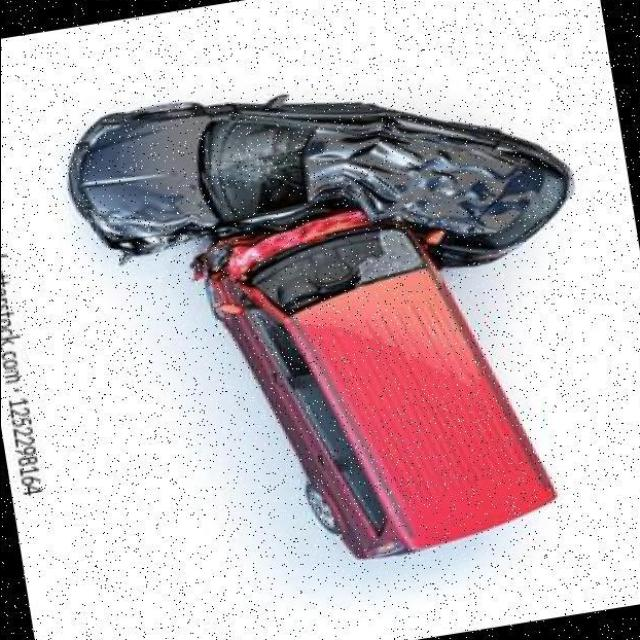accident: (101, 48, 615, 558)
